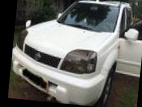car: (8, 0, 142, 107)
